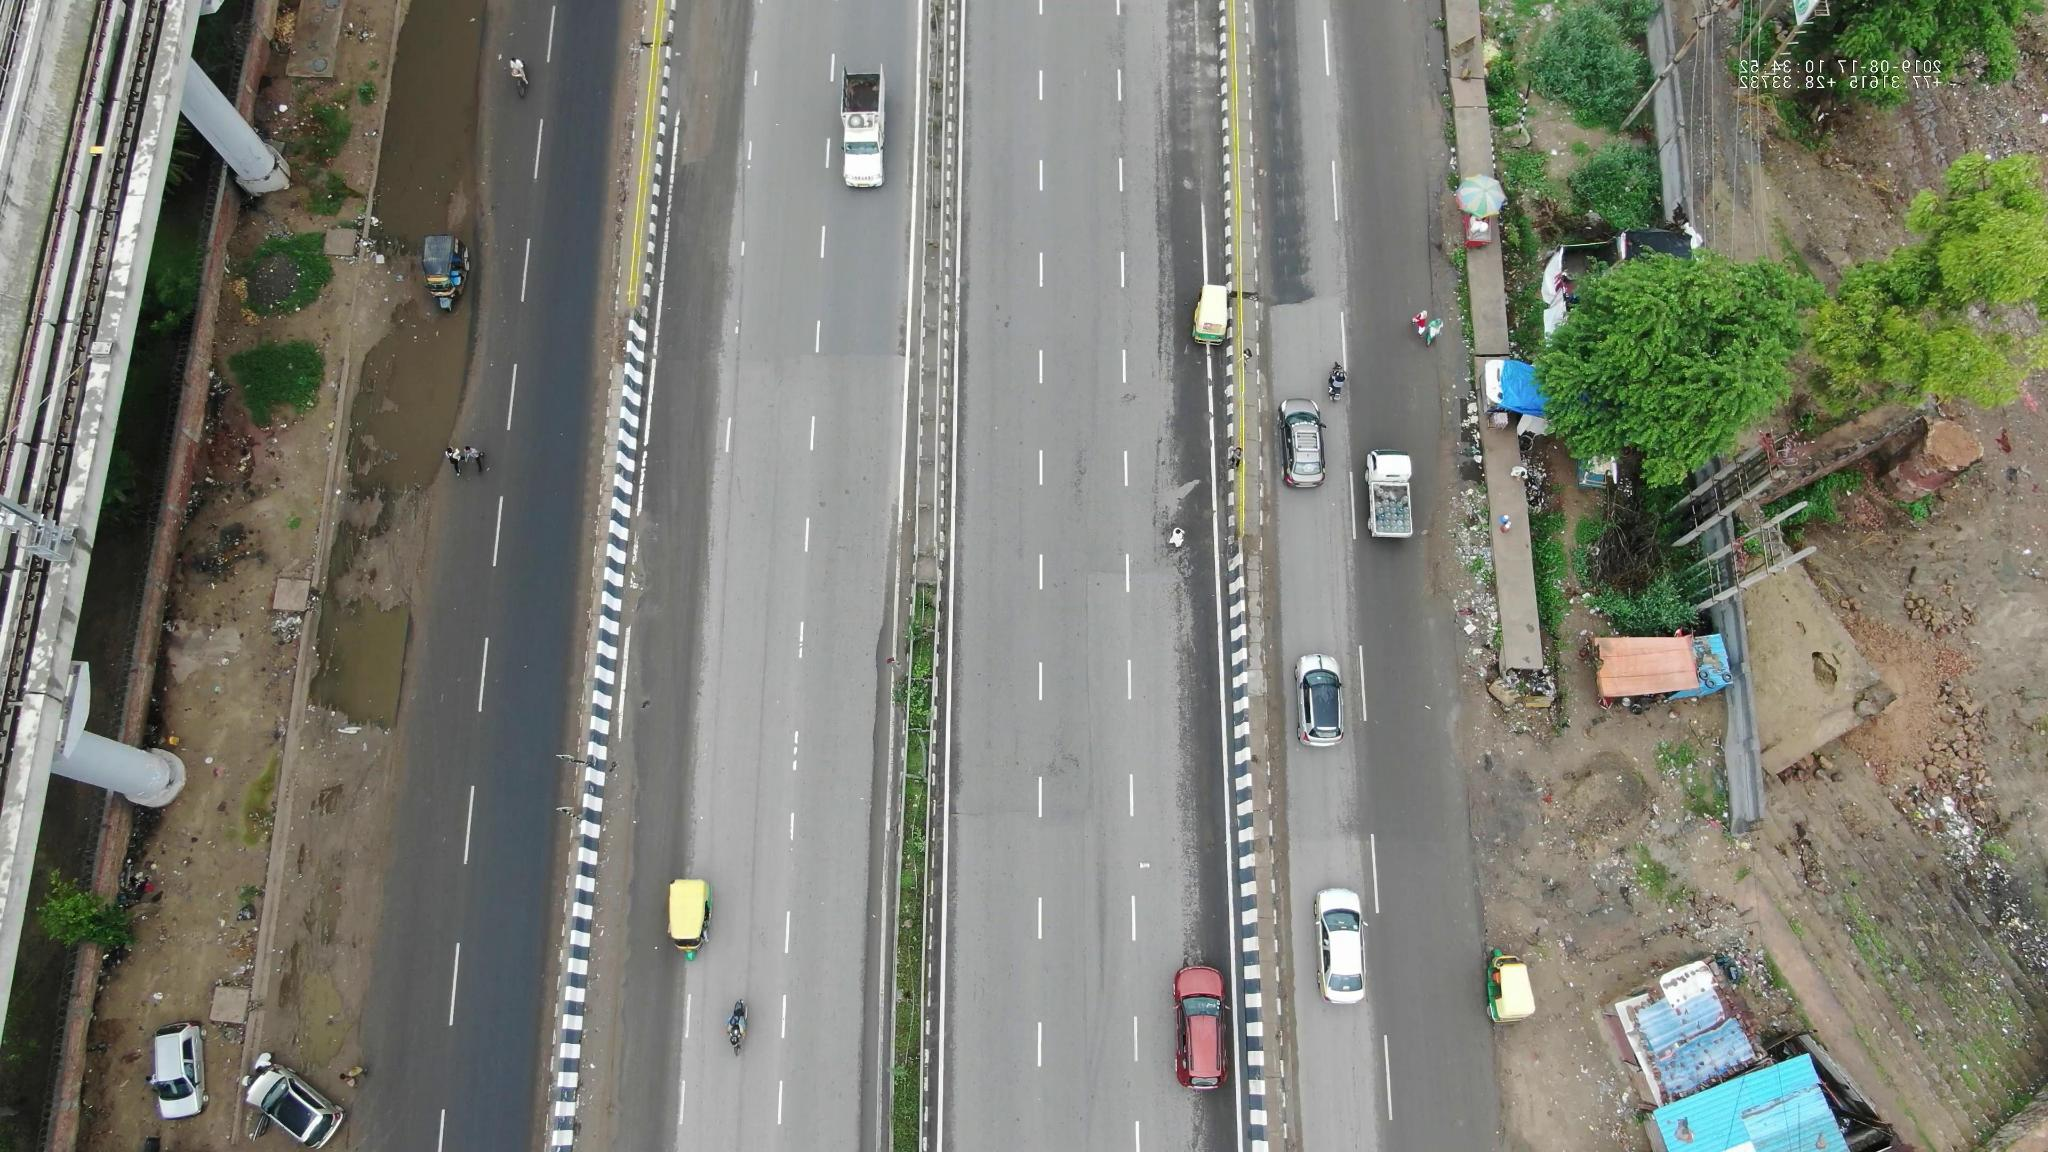Ravelling: (1062, 425, 1106, 533), (1030, 733, 1100, 782)
Waterlogging: (347, 13, 513, 511), (324, 532, 429, 745)
